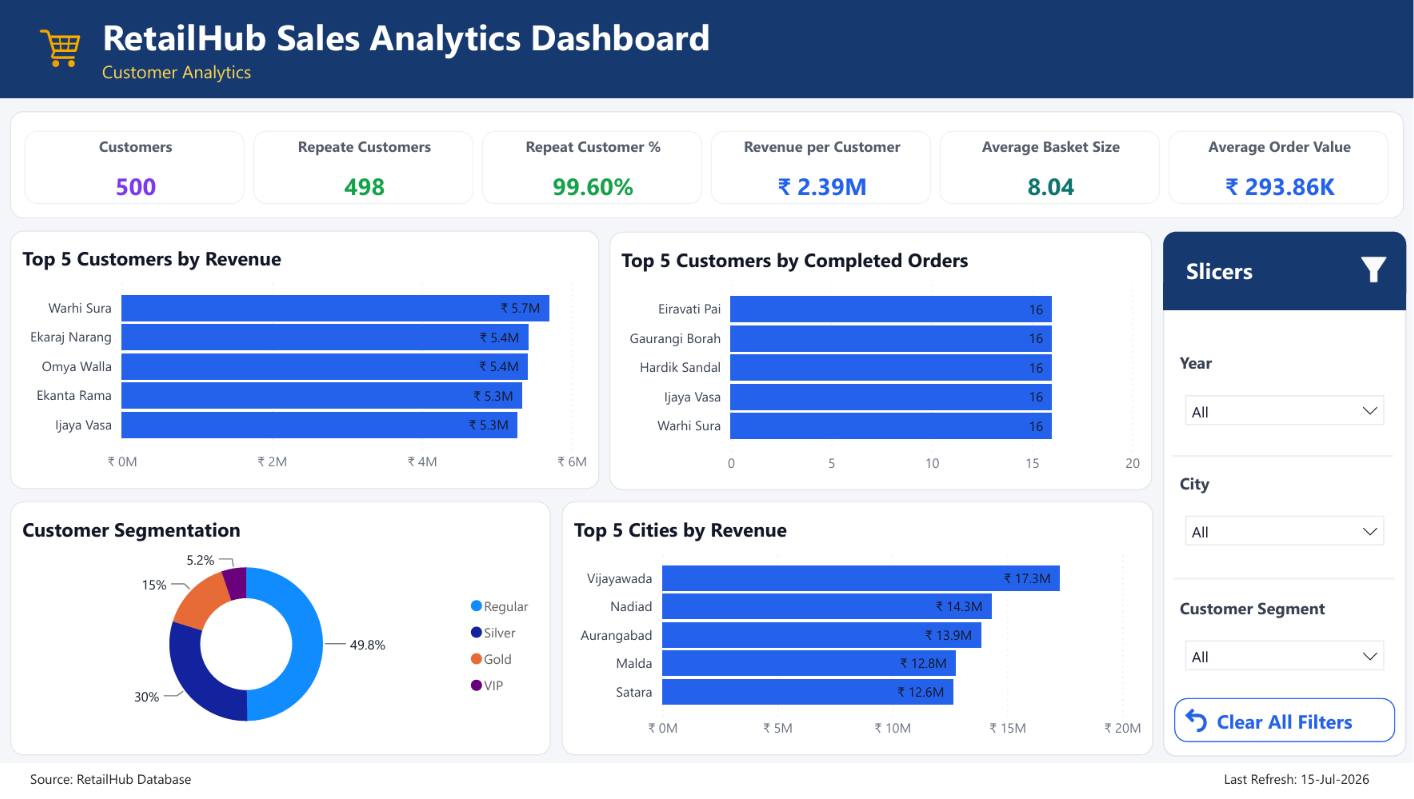

The dashboard page shown, as its layout file describes it:
{"tool":"powerbi","page":{"name":"Customer Analytics","canvas":[1280,720],"ordinal":2},"visuals":[{"type":"shape","box":[1053.3,211.1,220,474.4],"z":0},{"type":"textbox","box":[0,0,1280,90],"z":1000},{"type":"image","box":[35,25,41.2,41.2],"z":2000},{"type":"slicer","title":"Year","fields":{"Values":["Date.Year"]},"box":[1063,311.1,200,85.6],"z":3000},{"type":"slicer","title":"City","fields":{"Values":["customers.City"]},"box":[1063,420,200,85.6],"z":4000},{"type":"slicer","title":"Customer Segment","fields":{"Values":["customers.Customer Segment"]},"box":[1063.3,533.3,200,85.6],"z":5000},{"type":"cardVisual","title":"Net Revenue","fields":{"Data":["📊 Measures.Completed Customers","📊 Measures.Repeate Customers","📊 Measures.Repeat Customer %","📊 Measures.Revenue per Customer","📊 Measures.Average Basket Size","📊 Measures.Average Order Value"]},"box":[10,102,1260.7,96.5],"z":6000},{"type":"actionButton","title":"Clear all Filters","box":[1063.3,633.3,200,40],"z":7000},{"type":"shape","box":[0,692,1280,28],"z":8000},{"type":"textbox","box":[22.7,692,164,28],"z":9000},{"type":"textbox","box":[1103.3,692,154,28],"z":10000},{"type":"shape","box":[1062.2,516.7,200,16.7],"z":11000},{"type":"shape","box":[1061.1,405.6,200,16.7],"z":12000},{"type":"shape","box":[1053.3,257,220,25],"z":13000},{"type":"shape","title":"Slicers","box":[1053.3,211.1,220,67.8],"z":14000},{"type":"image","box":[1228.6,233.6,29.3,23.6],"z":15000},{"type":"clusteredBarChart","title":"Top 5 Customers by Revenue","fields":{"Y":["📊 Measures.Allocated Net Revenue"],"Category":["customers.Customer Name"]},"box":[9.7,209.9,533.2,234],"z":16000},{"type":"clusteredBarChart","title":"Top 5 Customers by Completed Orders","fields":{"Category":["customers.Customer Name"],"Y":["📊 Measures.Completed Orders"]},"box":[552,211.1,491,234],"z":17000},{"type":"donutChart","title":"Customer Segmentation","fields":{"Y":["📊 Measures.Completed Customers"],"Category":["customers.Customer Segment"]},"box":[9.7,454.8,489.8,230.4],"z":18000},{"type":"clusteredBarChart","title":"Top 5 Cities by Revenue","fields":{"Y":["📊 Measures.Allocated Net Revenue"],"Category":["customers.City"]},"box":[509.1,454.8,534.5,230.4],"z":19000}]}

Visuals, with their boxes in screenshot pixels (x1, y1, x2, y2), scaled from the page's 1280x720 canvas onto the 1414x799 screenshot:
shape: region(1164, 234, 1407, 761)
textbox: region(0, 0, 1413, 100)
image: region(39, 28, 84, 73)
"Year" slicer: region(1174, 345, 1395, 440)
"City" slicer: region(1174, 466, 1395, 561)
"Customer Segment" slicer: region(1175, 592, 1396, 687)
"Net Revenue" cardVisual: region(11, 113, 1404, 220)
"Clear all Filters" actionButton: region(1175, 703, 1396, 747)
shape: region(0, 768, 1413, 798)
textbox: region(25, 768, 206, 798)
textbox: region(1219, 768, 1389, 798)
shape: region(1173, 573, 1394, 592)
shape: region(1172, 450, 1393, 469)
shape: region(1164, 285, 1407, 313)
"Slicers" shape: region(1164, 234, 1407, 310)
image: region(1357, 259, 1390, 285)
"Top 5 Customers by Revenue" clusteredBarChart: region(11, 233, 600, 493)
"Top 5 Customers by Completed Orders" clusteredBarChart: region(610, 234, 1152, 494)
"Customer Segmentation" donutChart: region(11, 505, 552, 760)
"Top 5 Cities by Revenue" clusteredBarChart: region(562, 505, 1153, 760)
